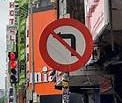No_turn_left: (37, 17, 95, 73)
